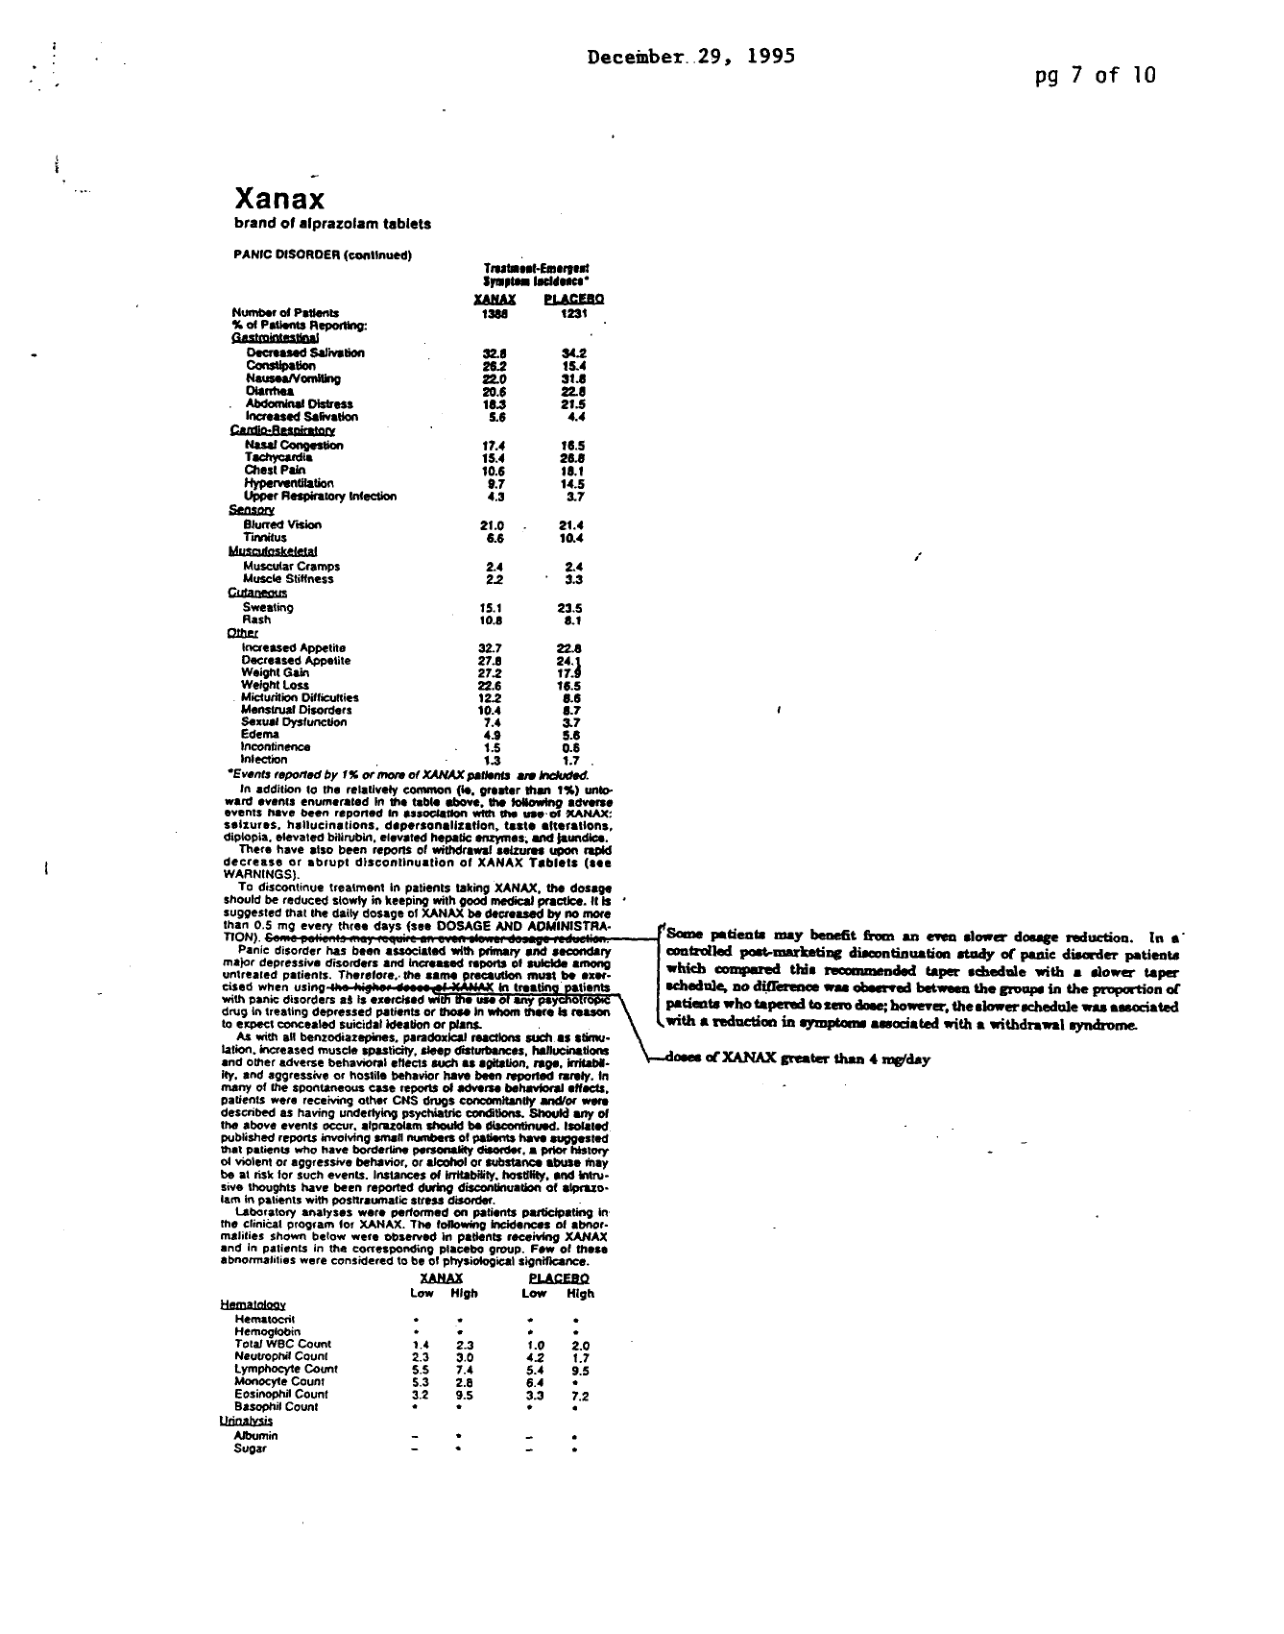nolines: (225, 244, 604, 767), (214, 1275, 601, 1455)
